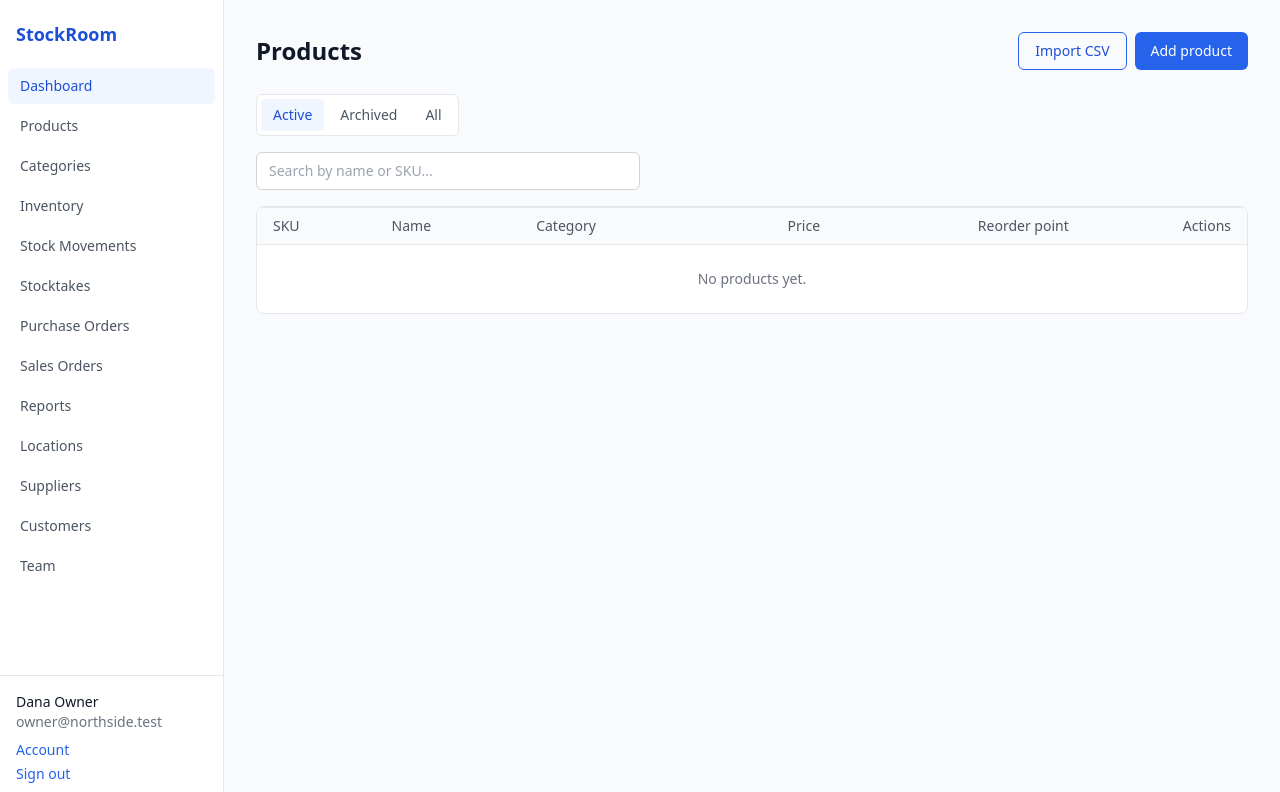
it: ProductsPage create › creates a product with the entered values and closes the form
The width and height of the screenshot is (1280, 792).
expect the text "No products yet." is shown: met, box [257,244,1247,313]
Click the button "Add product" at (1191, 51), box [1135,32,1248,70]
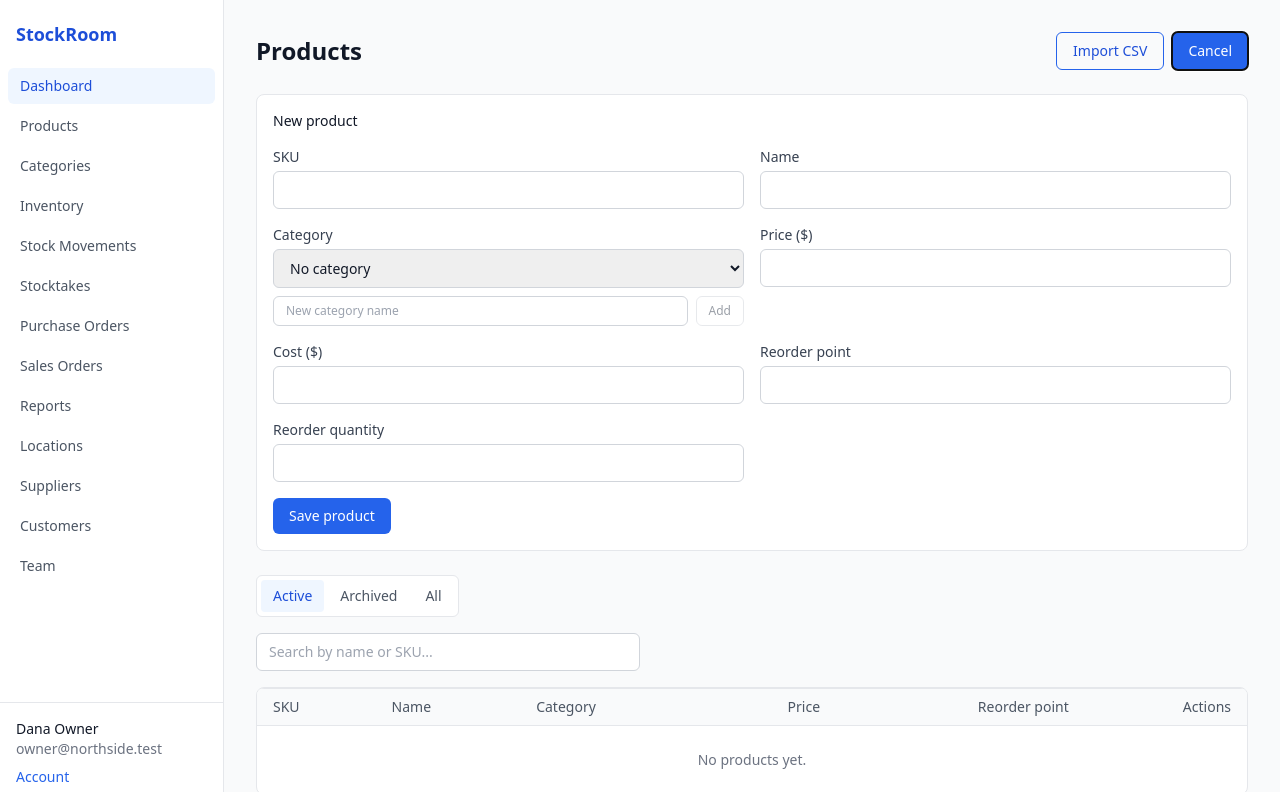
Type "WID-1" into the field labelled "SKU" at (508, 190), box [273,171,744,209]
Type "Widget" into the field labelled "Name" at (996, 190), box [760,171,1231,209]
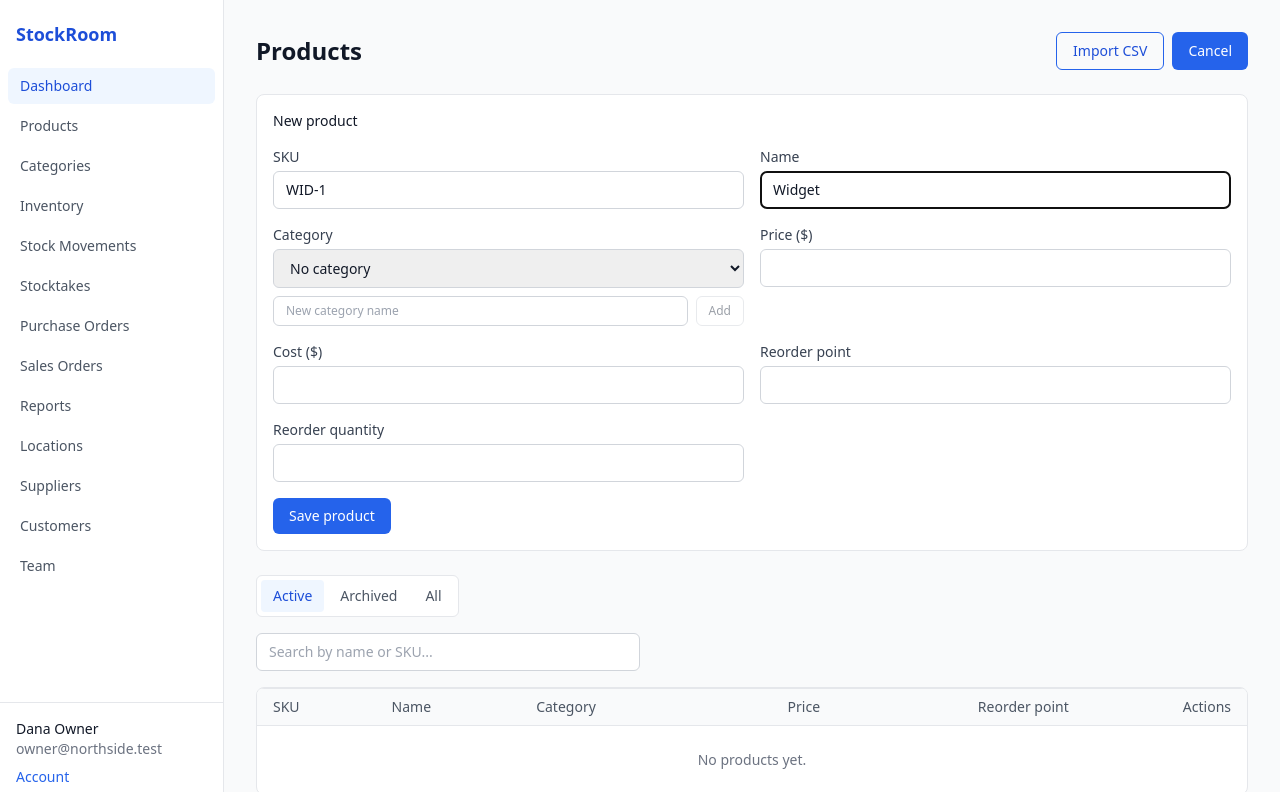
Type "19.99" into the number field labelled "Price ($)" at (996, 268), box [760,249,1231,287]
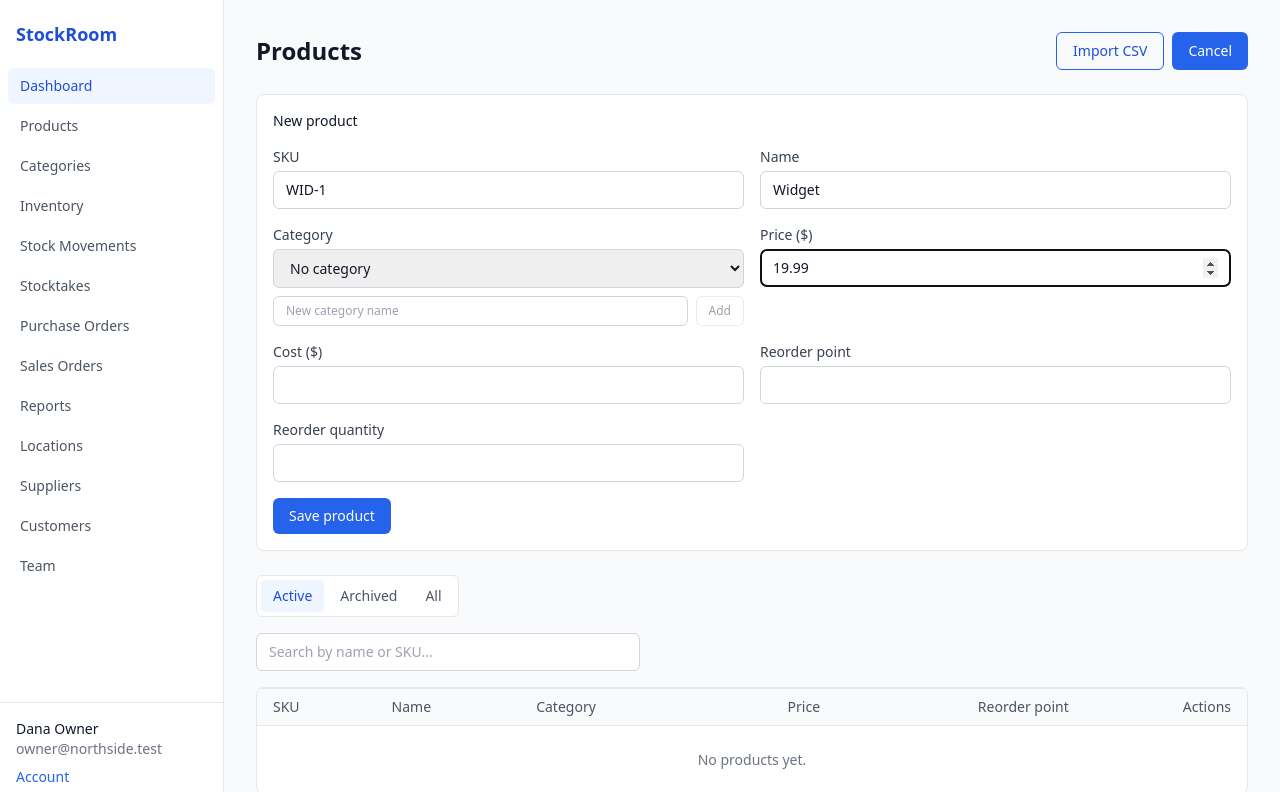
Type "5.00" into the number field labelled "Cost ($)" at (508, 385), box [273,366,744,404]
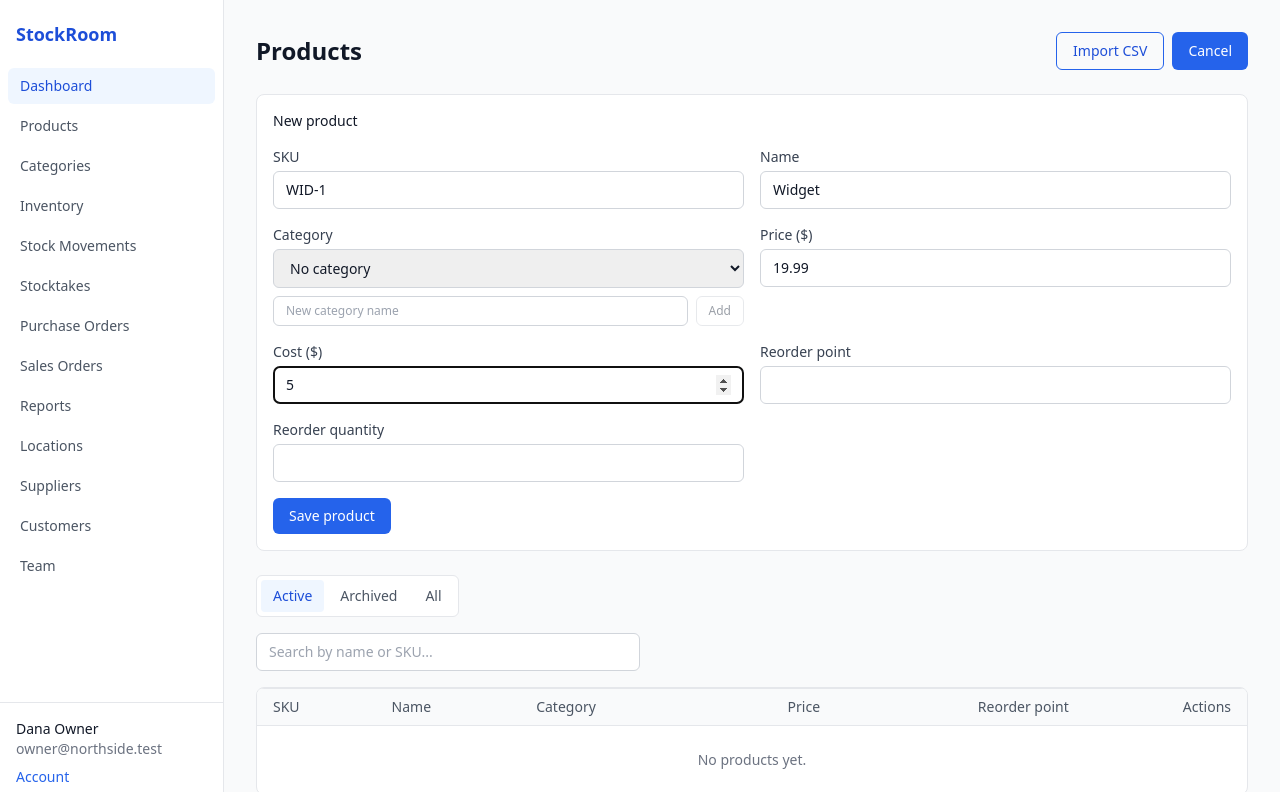
Type "3" into the number field labelled "Reorder point" at (996, 385), box [760,366,1231,404]
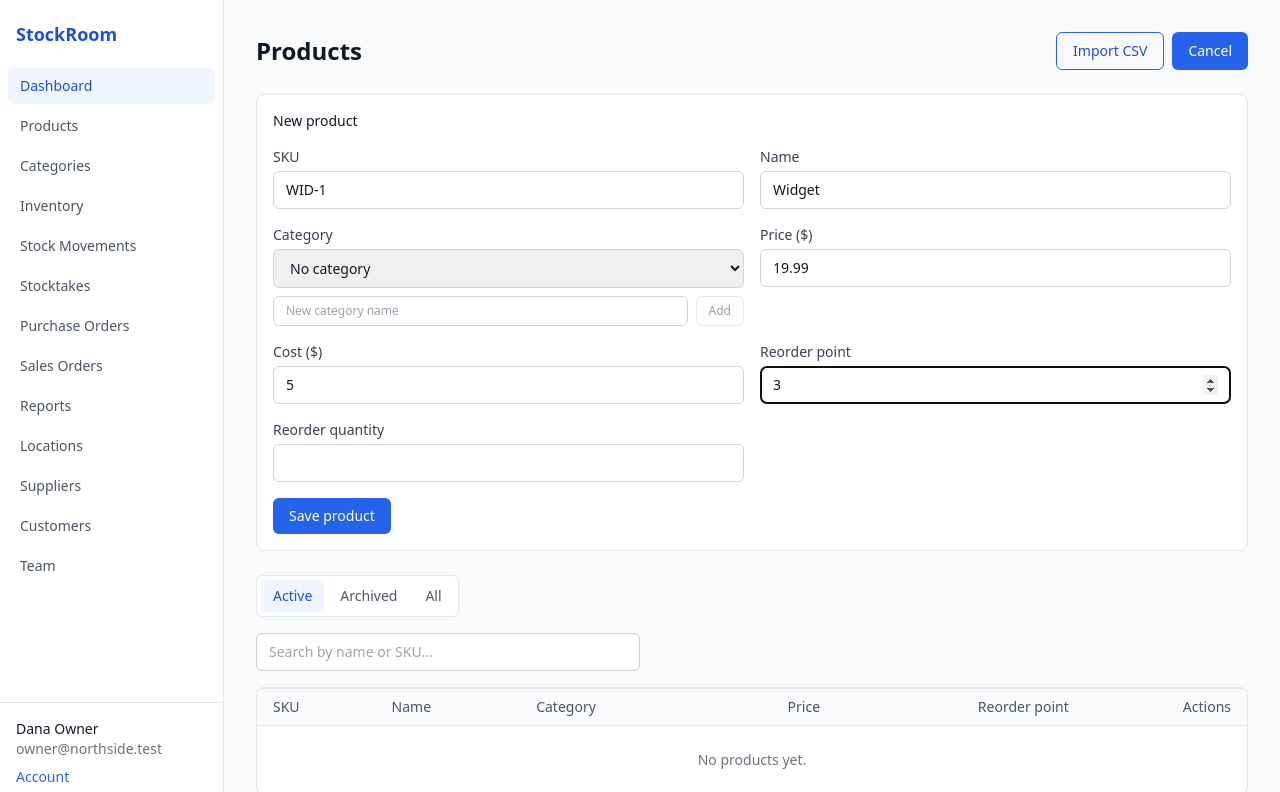
Click the button "Save product" at (332, 516), box [273,498,391,534]
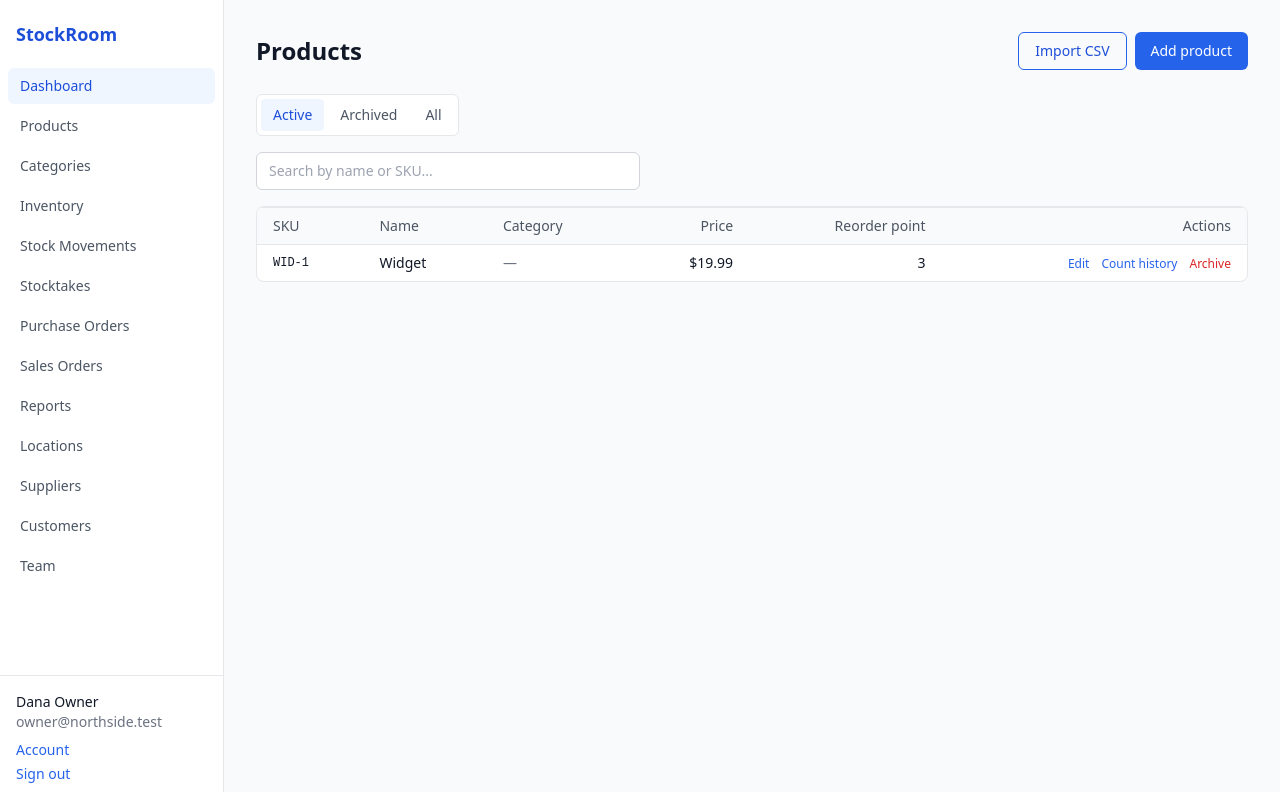
expect the text "Widget" is shown: met, box [364,244,487,281]
